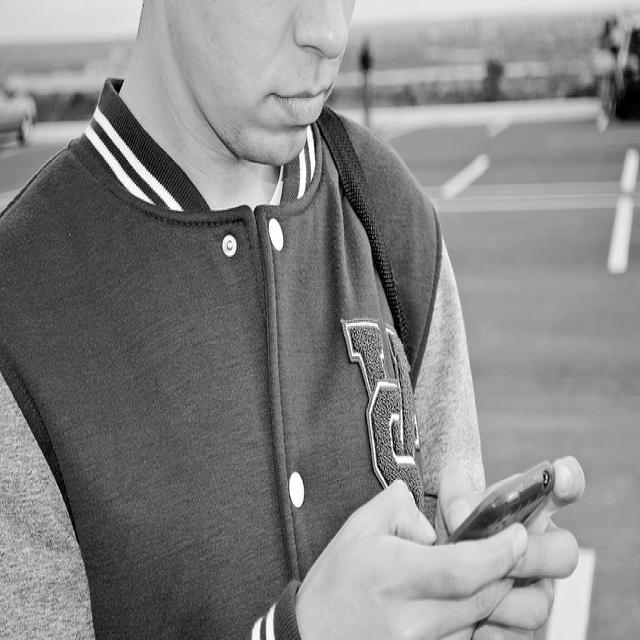Vehicle: (605, 29, 640, 119), (0, 83, 38, 149)
